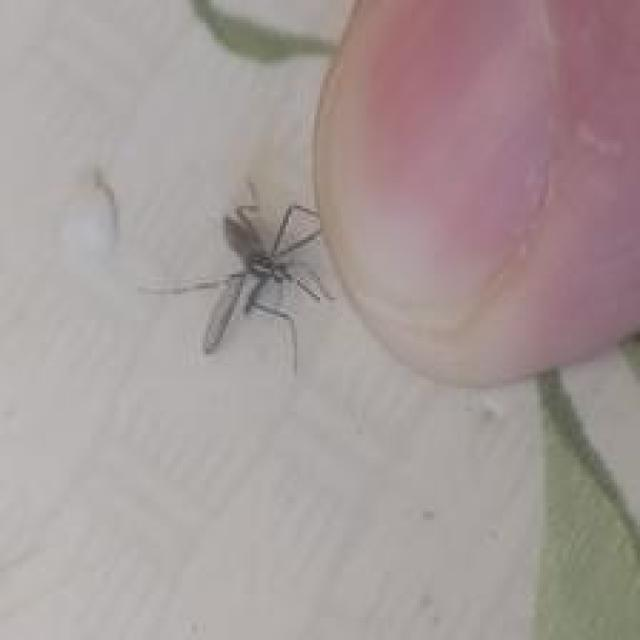Aedes albopictus: (137, 180, 337, 374)
